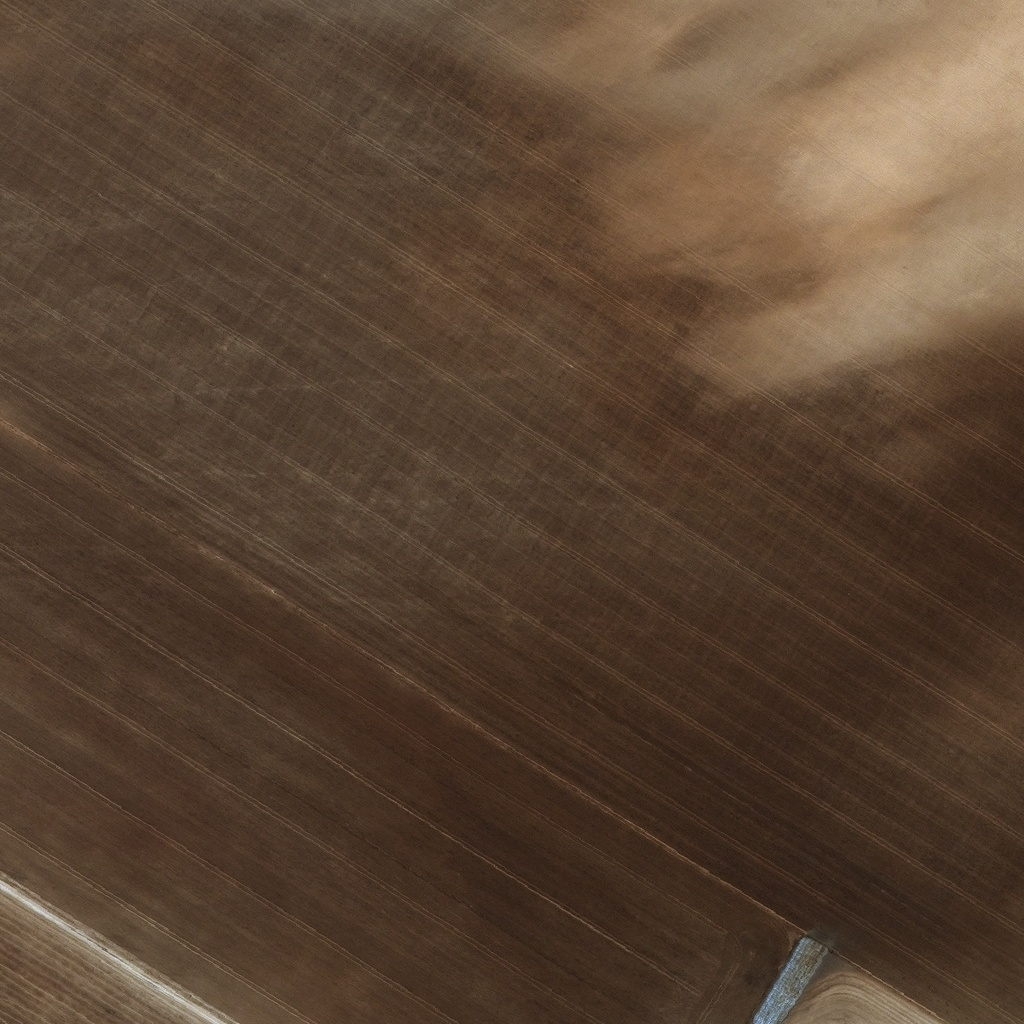4 un-classified: (156, 435, 166, 445)
